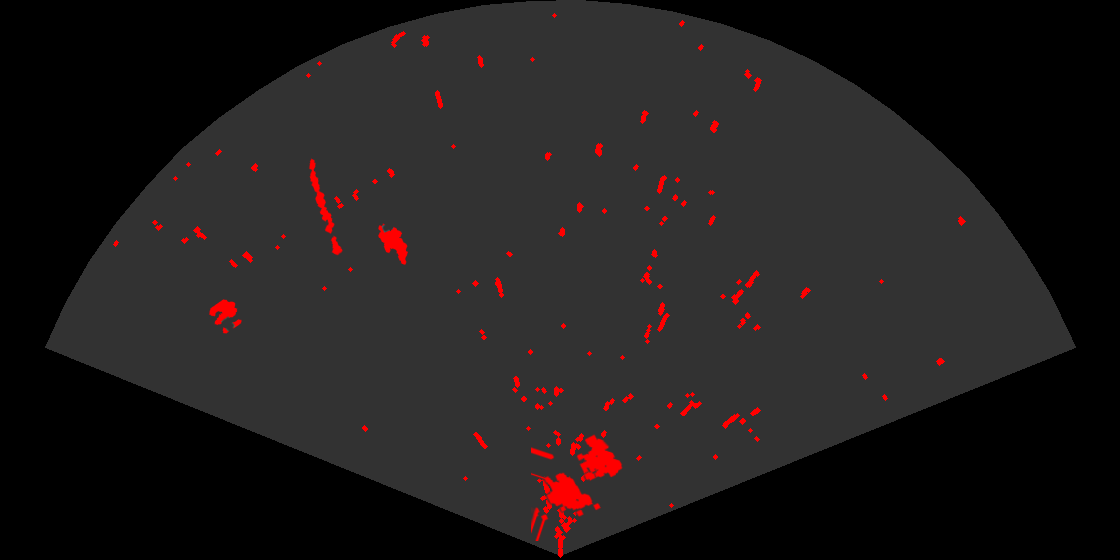AUV: (377, 222, 409, 267)
ball: (208, 298, 243, 335)
cage: (531, 433, 624, 541)
chain: (307, 157, 344, 257)
